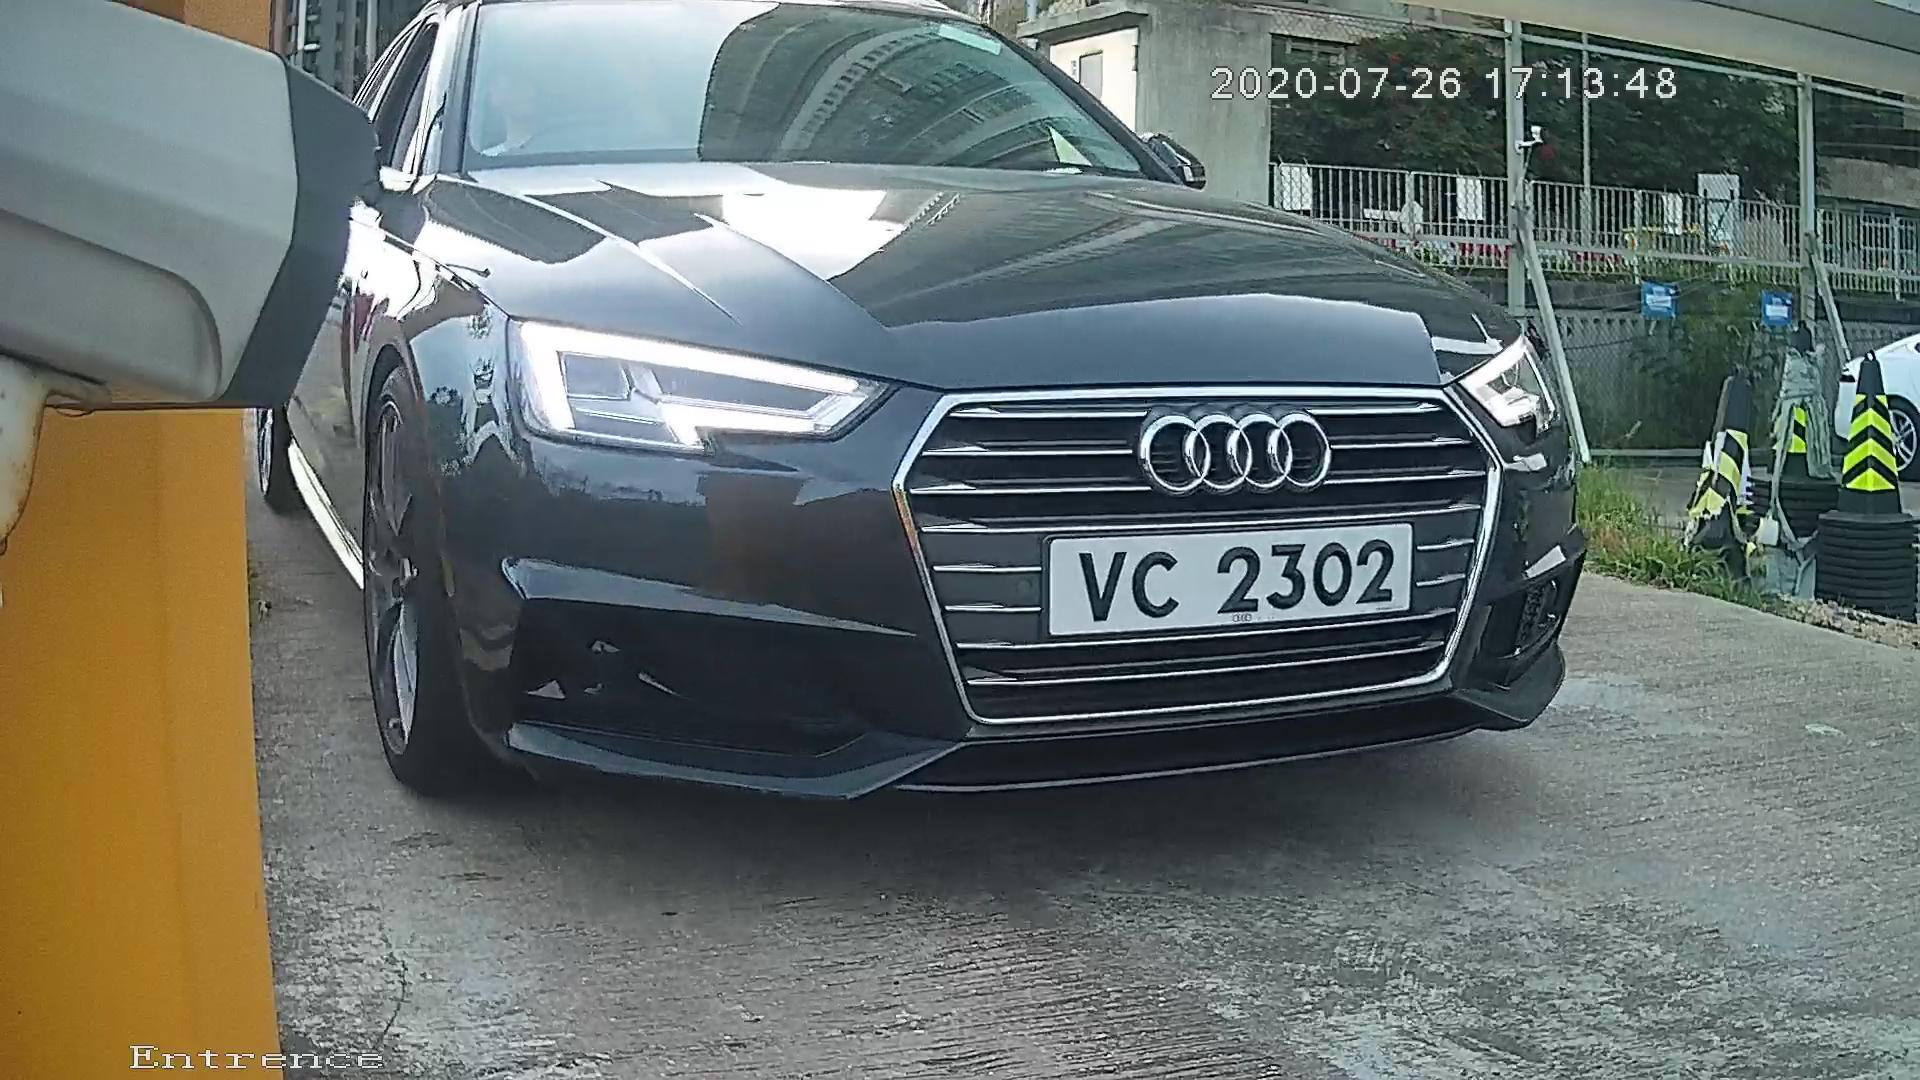privatecar: (232, 5, 1758, 844)
